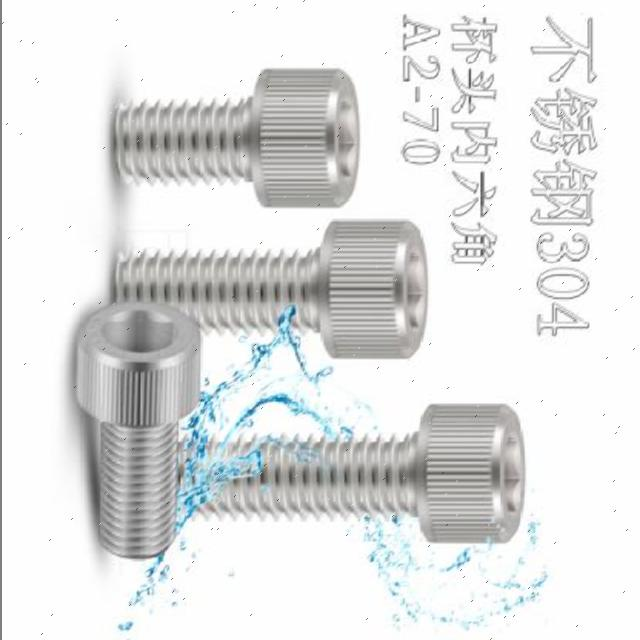Bolt: (172, 398, 526, 546), (107, 216, 430, 360), (110, 66, 362, 210), (71, 297, 203, 562)
